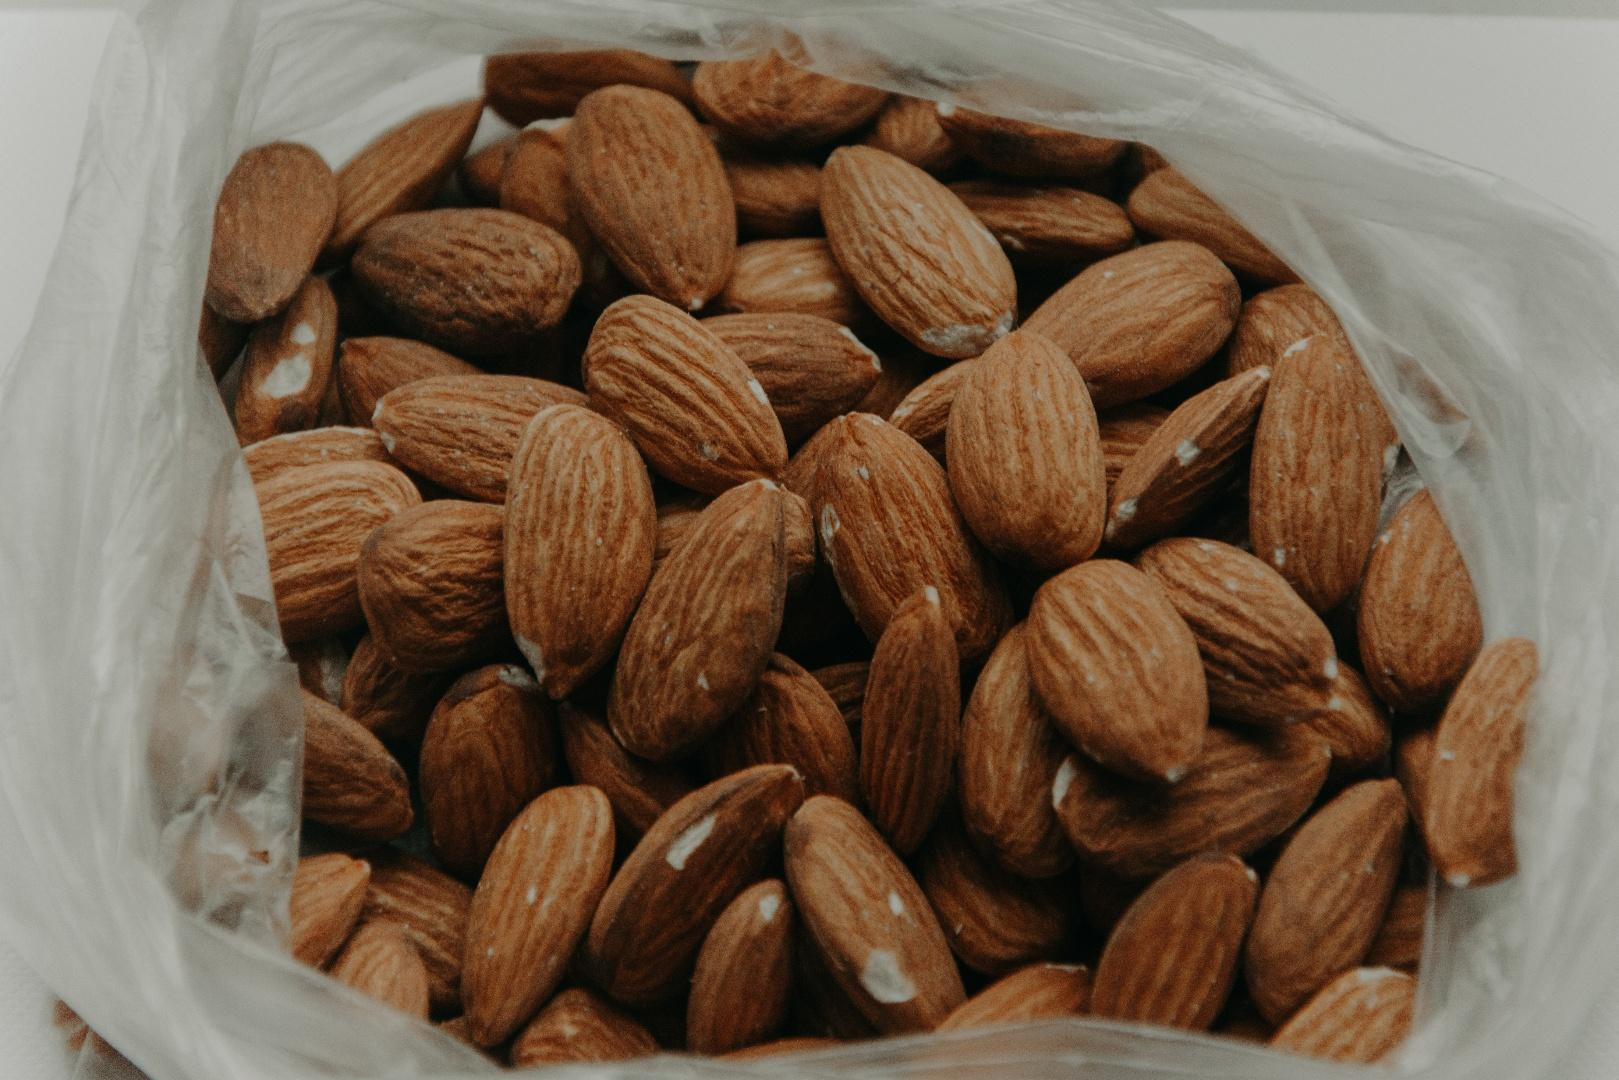metal-cans: (1491, 346, 1619, 703)
